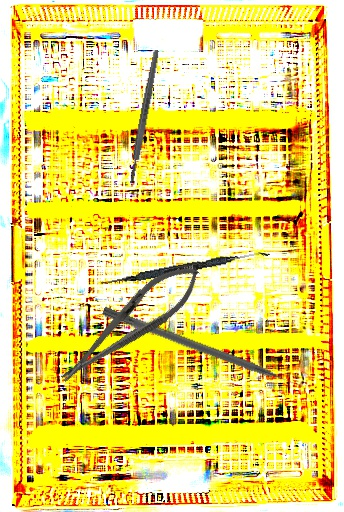Needle Holder: (48, 252, 211, 396)
Pusher: (100, 305, 307, 395)
Scalpel Handle: (127, 49, 161, 184)
Spatula Surgical: (100, 245, 271, 291)
